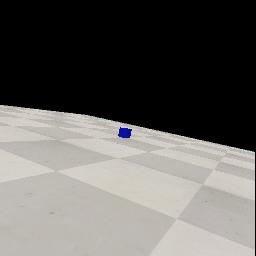box: (118, 127, 132, 138)
